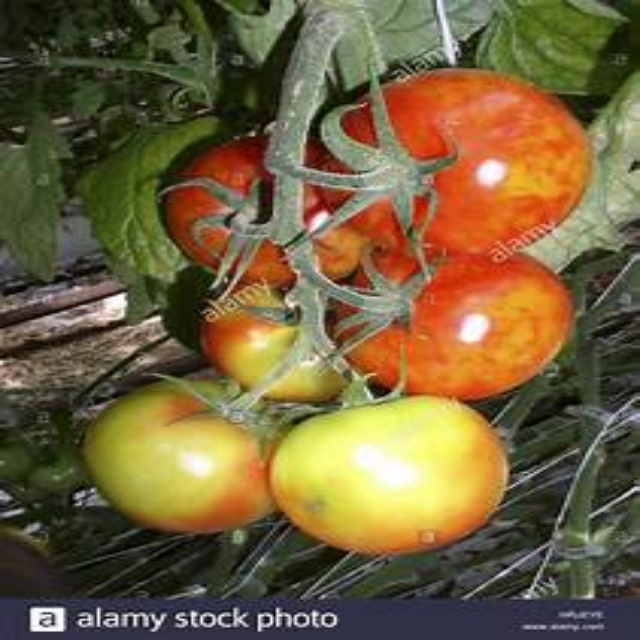tomato: (335, 71, 587, 254), (274, 386, 522, 557), (341, 247, 577, 399), (96, 382, 290, 536), (166, 145, 364, 287), (189, 293, 359, 422)
